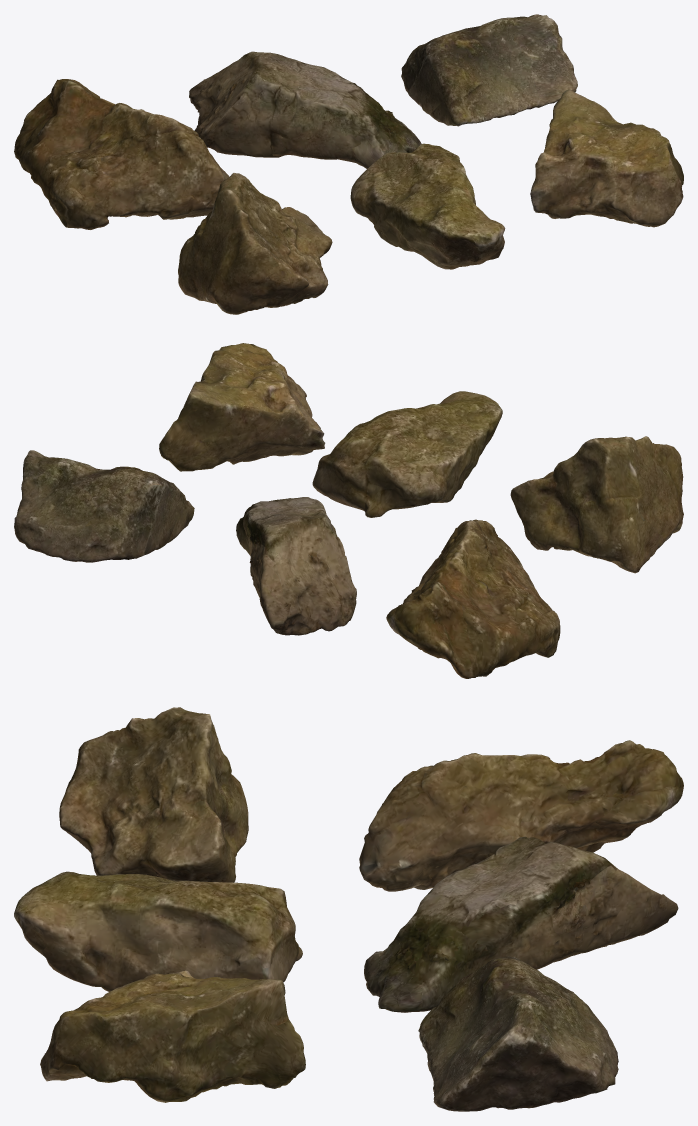
The model's file is rock_moss_set_01.glb.
3 views of the same model, one above another, from view 1: azimuth 30°, elevation 25°; view 2: azimuth 150°, elevation 25°; view 3: azimuth 270°, elevation 25° (orthographic). The views are drawn at different scales.
Visible parts, largest first — view 1: rock_moss_set_01_rock01, rock_moss_set_01_rock02, rock_moss_set_01_rock06, rock_moss_set_01_rock04, rock_moss_set_01_rock03, rock_moss_set_01_rock05; view 2: rock_moss_set_01_rock04, rock_moss_set_01_rock01, rock_moss_set_01_rock05, rock_moss_set_01_rock03, rock_moss_set_01_rock06, rock_moss_set_01_rock02; view 3: rock_moss_set_01_rock01, rock_moss_set_01_rock02, rock_moss_set_01_rock05, rock_moss_set_01_rock04, rock_moss_set_01_rock06, rock_moss_set_01_rock03.
Part boxes in pixels (bbox=[...]): rock_moss_set_01_rock01: bbox=[14, 79, 229, 229]; rock_moss_set_01_rock02: bbox=[189, 51, 421, 168]; rock_moss_set_01_rock06: bbox=[530, 89, 683, 227]; rock_moss_set_01_rock04: bbox=[178, 173, 332, 314]; rock_moss_set_01_rock03: bbox=[401, 14, 577, 126]; rock_moss_set_01_rock05: bbox=[350, 143, 505, 269]; rock_moss_set_01_rock04: bbox=[510, 436, 683, 573]; rock_moss_set_01_rock01: bbox=[386, 519, 560, 678]; rock_moss_set_01_rock05: bbox=[312, 391, 502, 517]; rock_moss_set_01_rock03: bbox=[14, 450, 194, 562]; rock_moss_set_01_rock06: bbox=[159, 343, 325, 471]; rock_moss_set_01_rock02: bbox=[236, 497, 356, 635]; rock_moss_set_01_rock01: bbox=[359, 740, 683, 891]; rock_moss_set_01_rock02: bbox=[364, 836, 678, 1012]; rock_moss_set_01_rock05: bbox=[14, 871, 302, 991]; rock_moss_set_01_rock04: bbox=[59, 707, 248, 882]; rock_moss_set_01_rock06: bbox=[40, 970, 305, 1102]; rock_moss_set_01_rock03: bbox=[418, 956, 618, 1111].
Bounding box in the file's own units: 8 × 1.77 × 6.95.
1 material, 1 textured.
